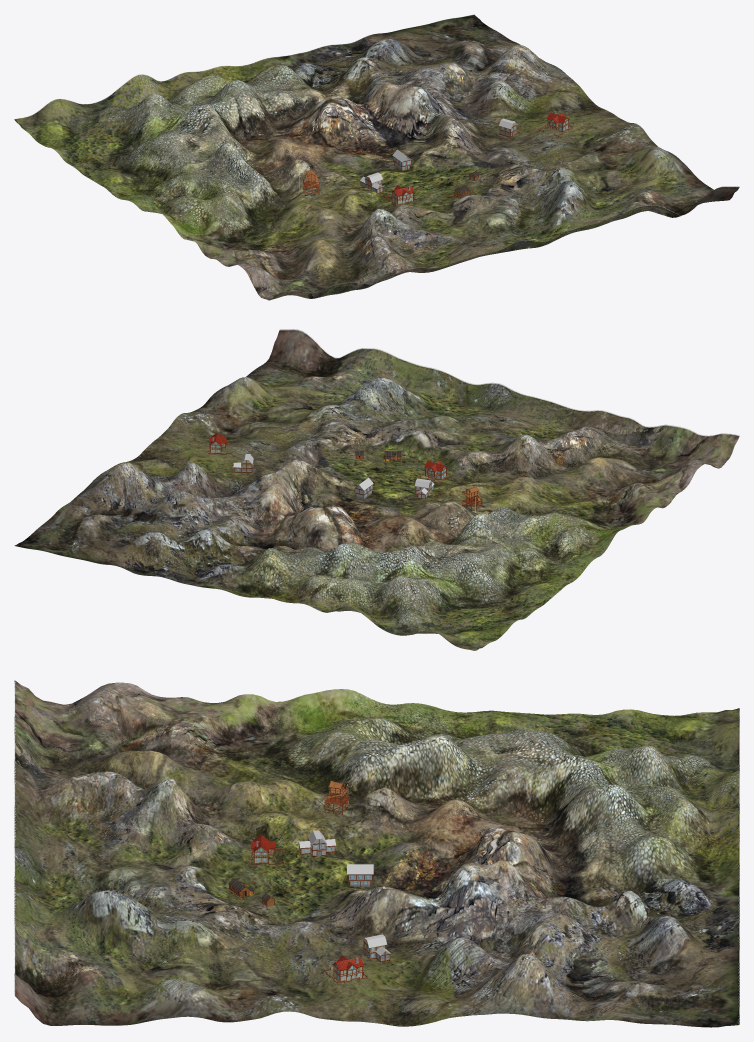
Rendered from ground.DAE.
3 renders of one model, top to bottom at view 1: azimuth 30°, elevation 25°; view 2: azimuth 150°, elevation 25°; view 3: azimuth 270°, elevation 25°, orthographic. The views are drawn at different scales.
Parts seen in each view (by area): view 1: ground_plane; view 2: ground_plane; view 3: ground_plane, house04, house02, house07.
Part boxes in pixels (x1,y1,x2,y2): ground_plane: [14, 14, 739, 300]; ground_plane: [14, 329, 739, 650]; ground_plane: [14, 680, 739, 1027]; house04: [298, 830, 335, 857]; house02: [332, 955, 363, 982]; house07: [362, 934, 390, 962].
Size of the model in its own units: 100 by 100 by 12.51.
